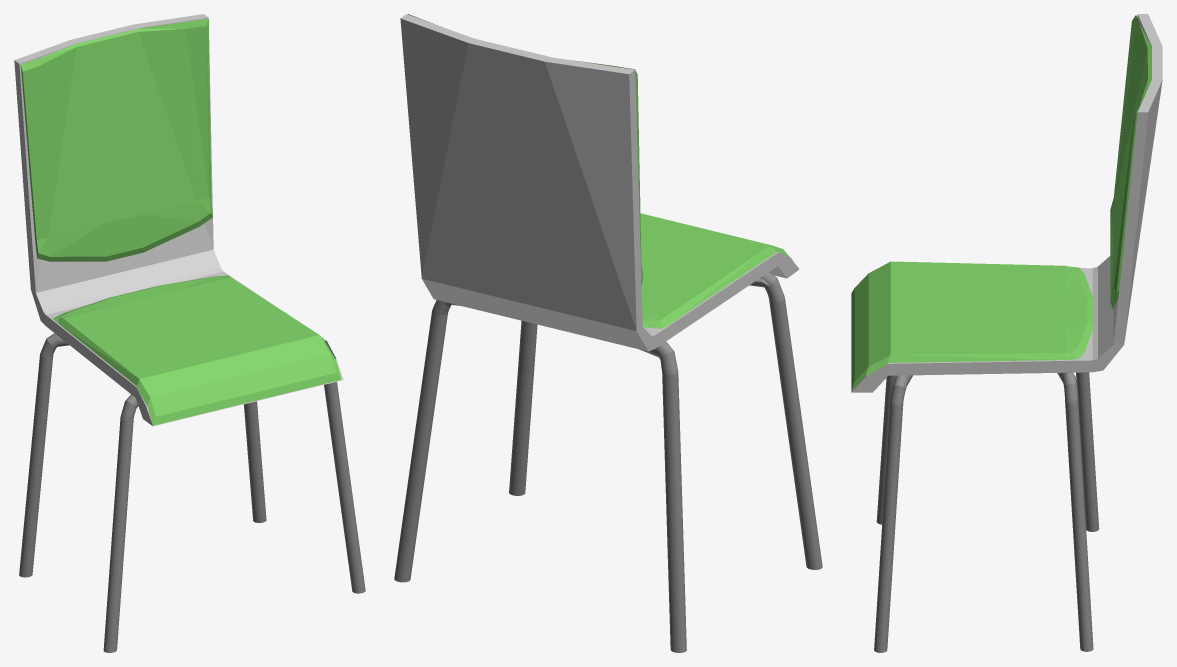
File: classroom_chair_green_visual.dae
3 renders of one model, left to right at view 1: azimuth 30°, elevation 25°; view 2: azimuth 150°, elevation 25°; view 3: azimuth 270°, elevation 25°, orthographic. The views are drawn at different scales.
Parts seen in each view (by area): view 1: Cylinder; view 2: Cylinder; view 3: Cylinder.
Boxes of the visible parts, x1,y1,x2,y2 form: Cylinder: [14, 14, 365, 652]; Cylinder: [394, 14, 822, 652]; Cylinder: [851, 14, 1162, 652].
Size of the model in its own units: 1.5 by 1.47 by 2.72.
